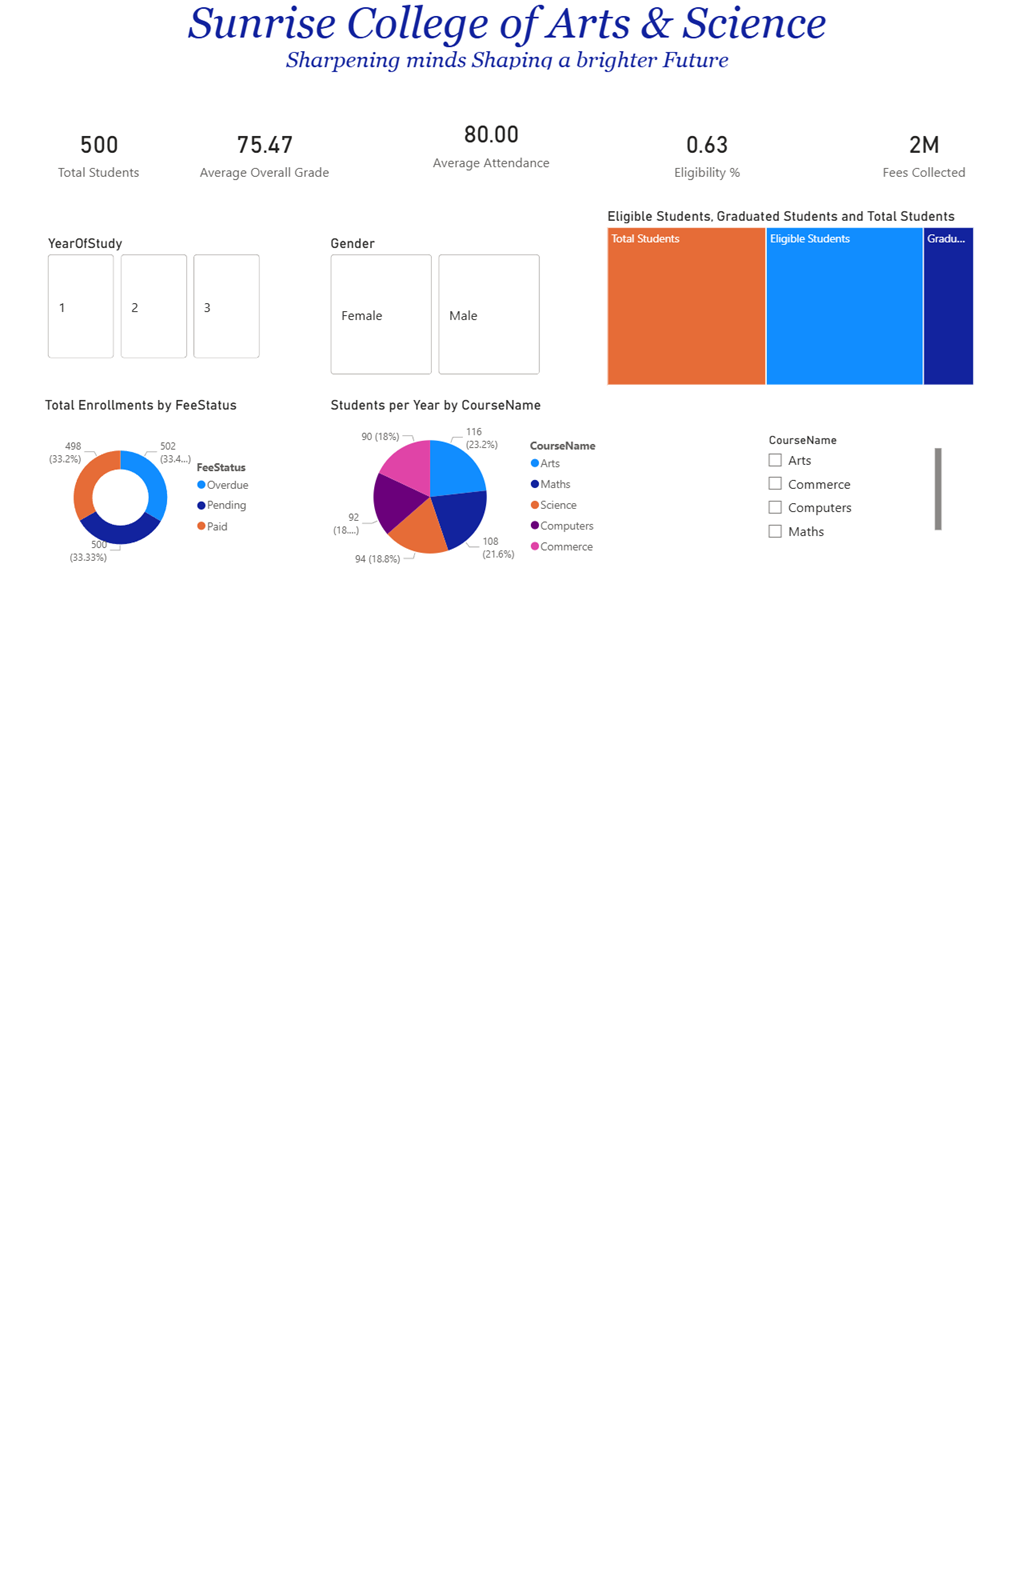

What the dashboard file says about the page in this screenshot:
{"tool":"powerbi","page":{"name":"College","canvas":[1280,720],"ordinal":0},"visuals":[{"type":"textbox","box":[10.2,0,1249.5,133],"z":0},{"type":"slicer","fields":{"Values":["Dim_Courses.CourseName"]},"box":[941.3,532.4,229.2,149.6],"z":1000},{"type":"advancedSlicerVisual","fields":{"Values":["Fact_Enrollments.YearOfStudy"]},"box":[67.2,295,270.3,156.4],"z":2000},{"type":"advancedSlicerVisual","fields":{"Values":["Dim_Students.Gender"]},"box":[413,295,267.6,177],"z":3000},{"type":"card","fields":{"Values":["Measures1.Total Students"]},"box":[32.9,105.7,203.1,177],"z":4000},{"type":"card","fields":{"Values":["Measures1.Average Overall Grade"]},"box":[236,105.7,203.1,177],"z":5000},{"type":"card","fields":{"Values":["Measures1.Average Attendance"]},"box":[513.2,93.3,203.1,177],"z":6000},{"type":"card","fields":{"Values":["Measures1.Eligibility %"]},"box":[778,105.7,203.1,177],"z":7000},{"type":"card","fields":{"Values":["Measures1.Total Fees collected"]},"box":[1042.9,105.7,203.1,177],"z":8000},{"type":"pieChart","fields":{"Category":["Dim_Courses.CourseName"],"Y":["Measures1.Students per Year"]},"box":[413,492.6,352.7,226.4],"z":9000},{"type":"donutChart","fields":{"Category":["Fact_Enrollments.FeeStatus"],"Y":["Measures1.Total Enrollments"]},"box":[63.1,492.6,274.4,227.8],"z":10000},{"type":"treemap","fields":{"Values":["Measures1.Eligible Students","Measures1.Graduated Students","Measures1.Total Students"]},"box":[752,262.1,458.3,222.3],"z":11000}]}

Visuals, with their boxes on the page's 1280x720 design canvas (x1, y1, x2, y2). These are canvas units, not pixel positions in the 1017x1577 screenshot, which may show the page scaled, cropped or inside an application window:
textbox: 10, 0, 1260, 133
slicer - Dim_Courses.CourseName: 941, 532, 1170, 682
advancedSlicerVisual - Fact_Enrollments.YearOfStudy: 67, 295, 338, 451
advancedSlicerVisual - Dim_Students.Gender: 413, 295, 681, 472
card - Measures1.Total Students: 33, 106, 236, 283
card - Measures1.Average Overall Grade: 236, 106, 439, 283
card - Measures1.Average Attendance: 513, 93, 716, 270
card - Measures1.Eligibility %: 778, 106, 981, 283
card - Measures1.Total Fees collected: 1043, 106, 1246, 283
pieChart - Dim_Courses.CourseName x Measures1.Students per Year: 413, 493, 766, 719
donutChart - Fact_Enrollments.FeeStatus x Measures1.Total Enrollments: 63, 493, 338, 720
treemap - Measures1.Eligible Students x Measures1.Graduated Students: 752, 262, 1210, 484
